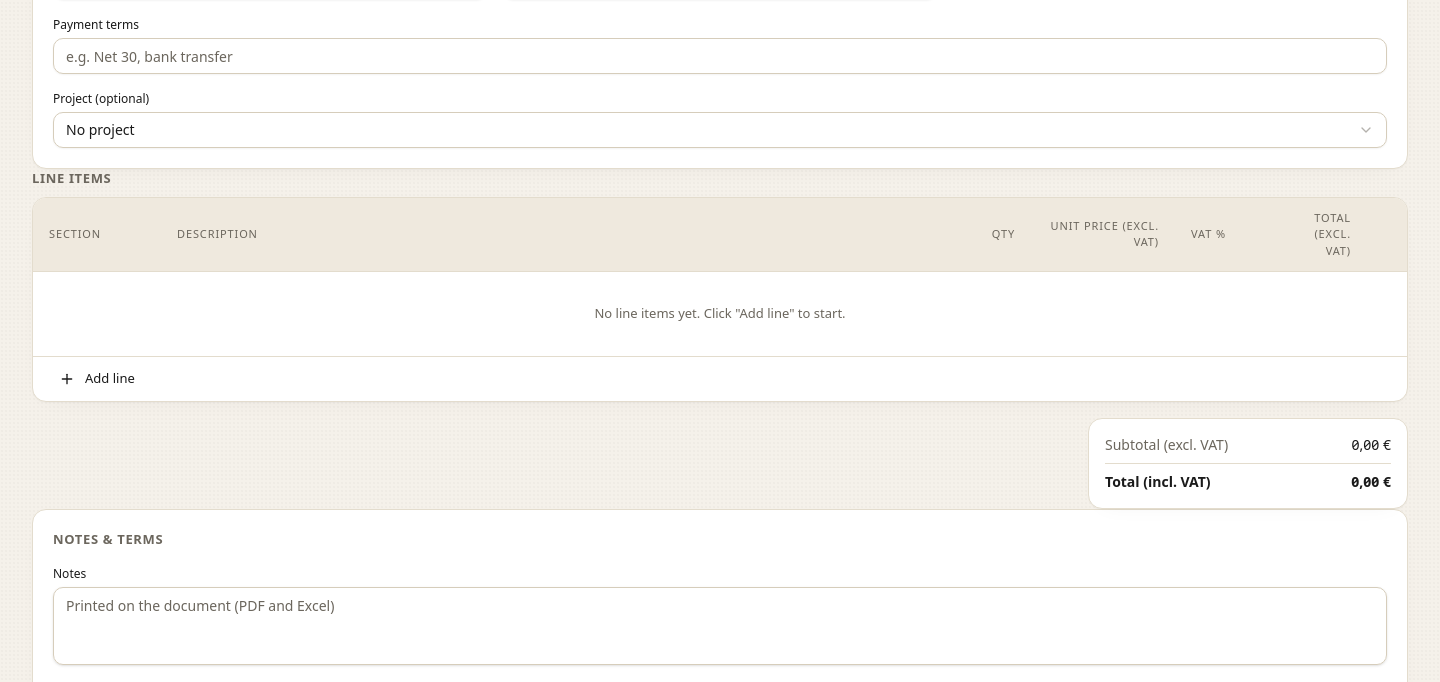
Scenario: BillingDocumentForm — started from a template › gives a line added to the new document the template's default VAT rate
This screenshot has width=1440, height=682.
(page scrolled)
Click the button "Add line".
click(97, 379)  # box [49,365,145,393]
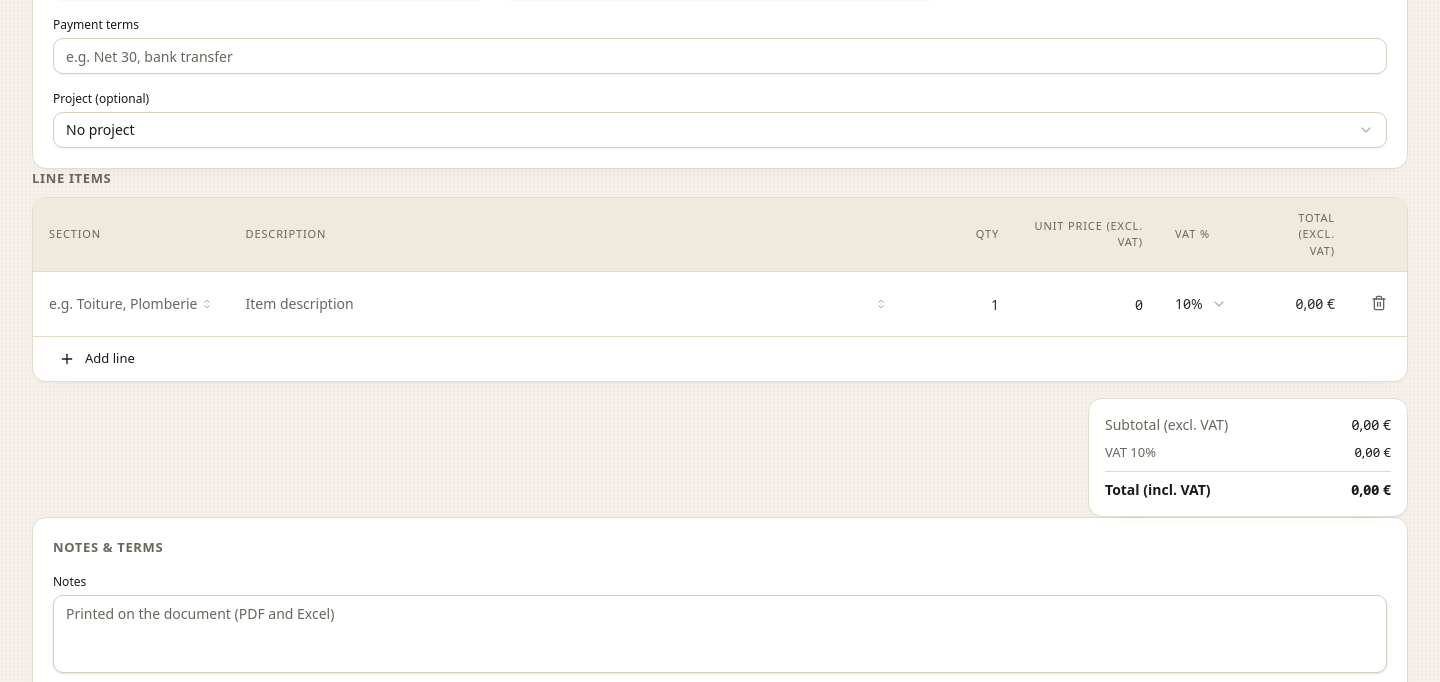
Expected: the text "10%" is shown, [1175,294,1203,314]
